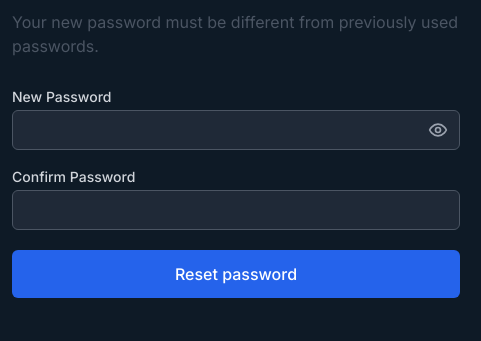
Scenario: ResetPasswordPage › validates password length
The image size is (481, 341).
Type "short" into the password field labelled "New Password" at (236, 130), box [12,110,460,150]
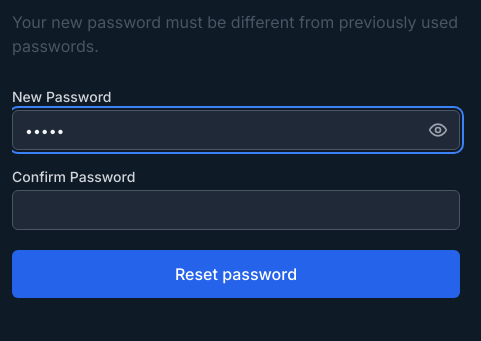
Type "short" into the password field labelled "Confirm Password" at (236, 210), box [12,190,460,230]
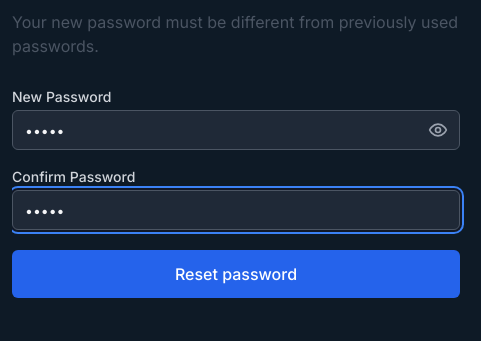
Click the button "Reset password" at (236, 274), box [12,250,460,298]
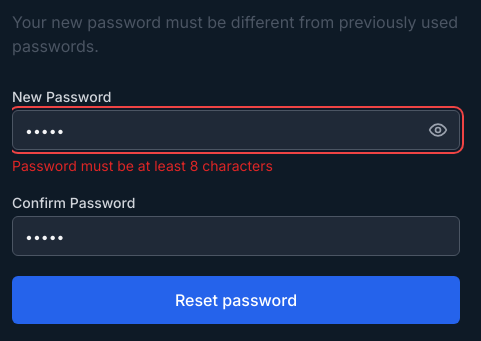
Result: the text "Password must be at least 8 characters" is shown at [12,157,273,174]
